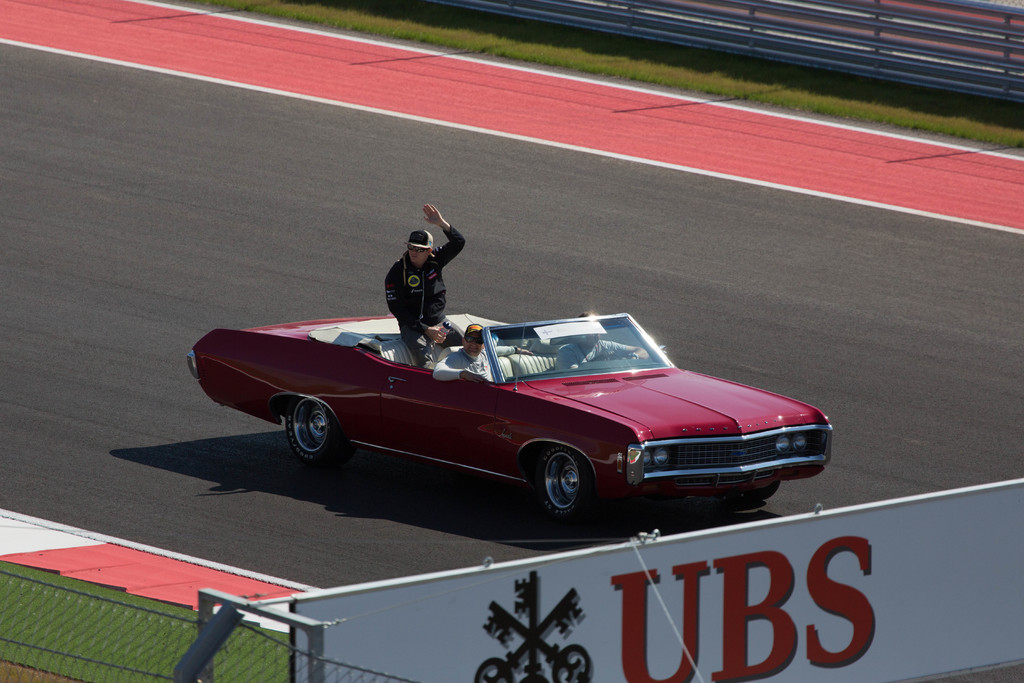mobil: (222, 285, 845, 515)
